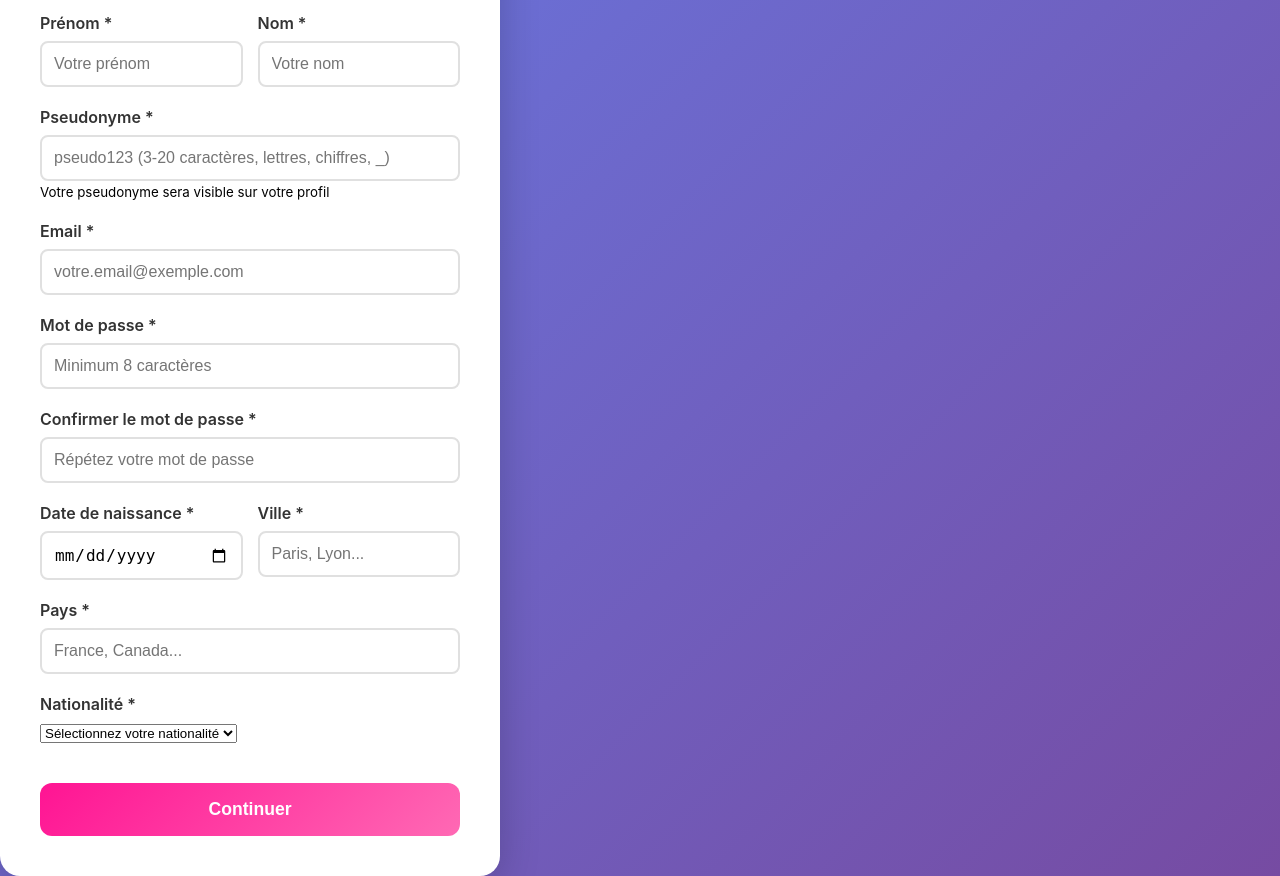
it: SignupForm - Nationality Validation › should show error for empty nationality
(page scrolled)
Click the button "Continuer": click(250, 810) [40,783,460,836]
(page scrolled)
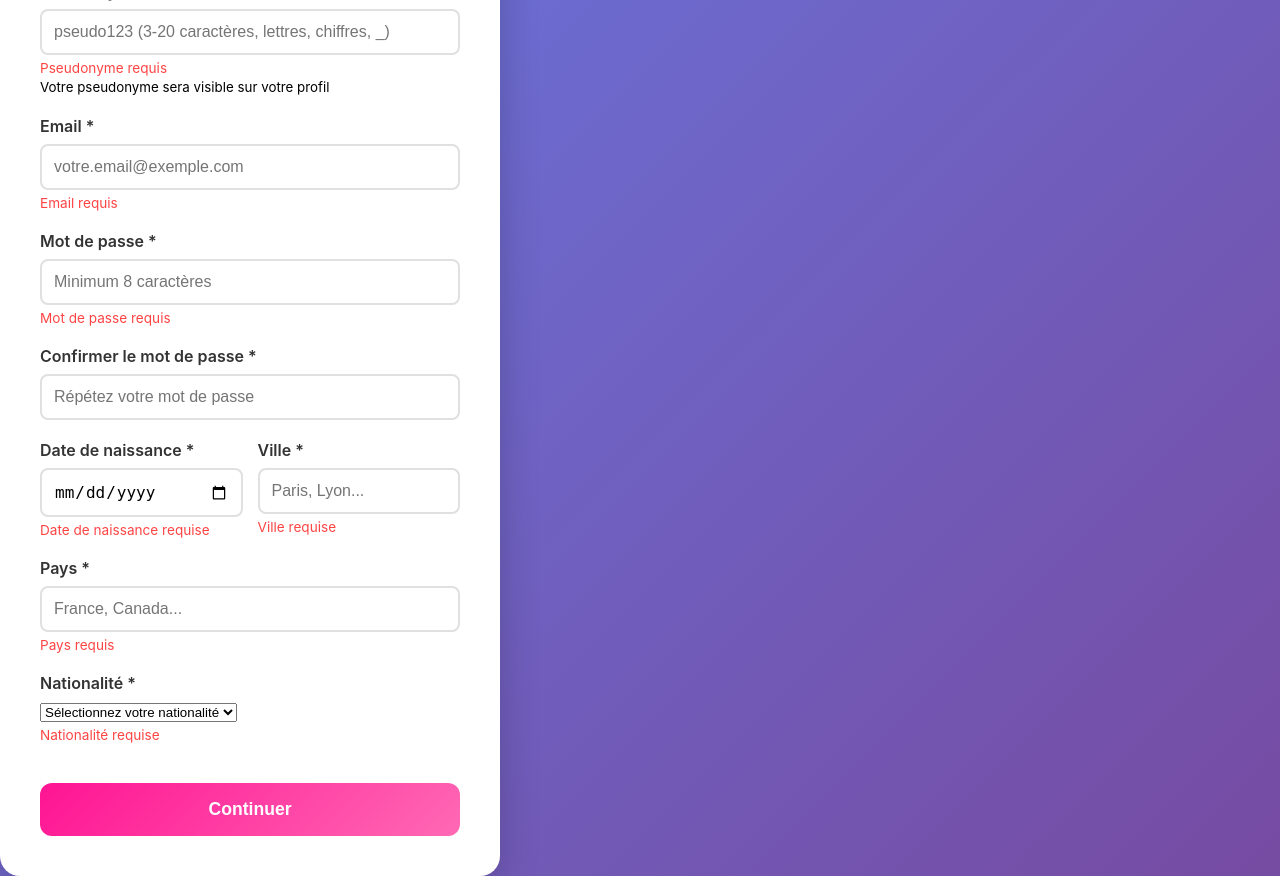
Result: the text "Nationalité requise" is shown at [40,727,160,743]
